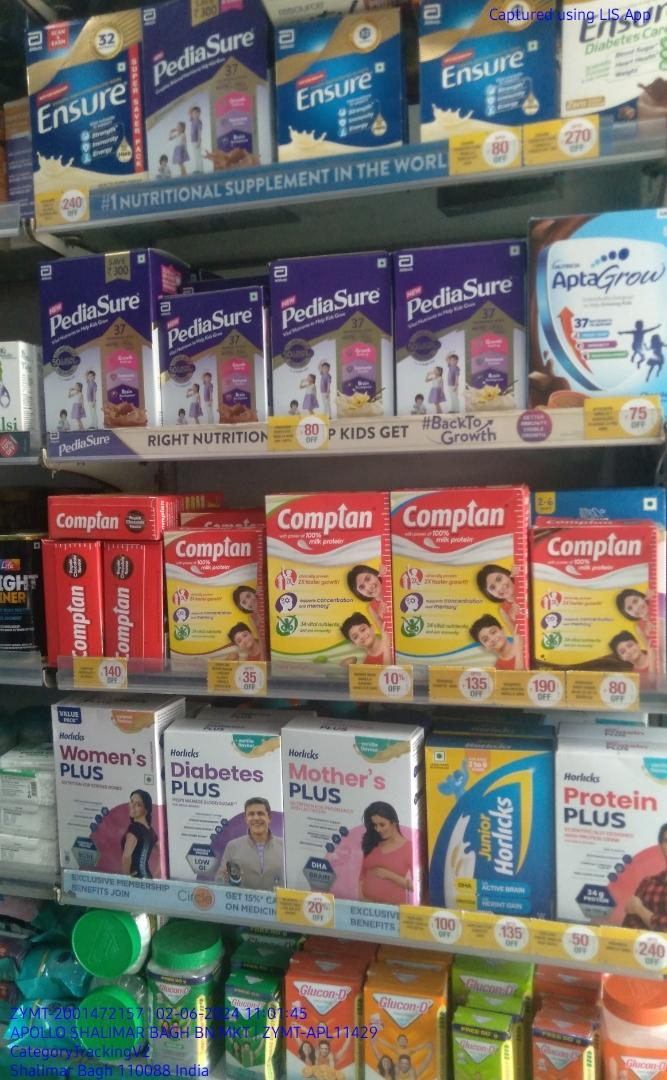ENSURE_VANILLA_400_G_PACK: (273, 6, 406, 162), (420, 3, 560, 137)
PEDIASURE_CHOCOLATE_500_G_PACK: (143, 0, 271, 175), (159, 285, 265, 427)
PEDIASURE_VANILLA_500_G_PACK: (394, 243, 526, 414), (273, 253, 388, 420)
